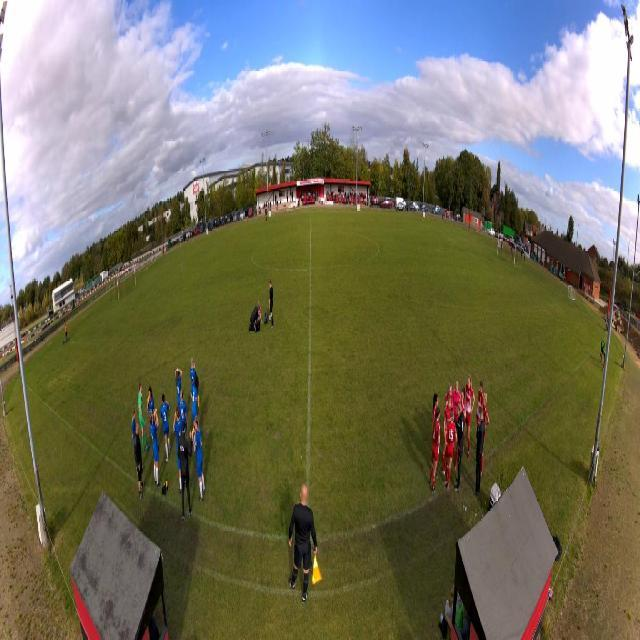ball: (269, 314, 272, 323)
player: (191, 414, 207, 500), (443, 407, 457, 491), (149, 409, 162, 487), (173, 404, 184, 490), (160, 394, 173, 465), (137, 379, 149, 451), (465, 375, 475, 459), (430, 405, 439, 495), (443, 394, 452, 474), (481, 385, 488, 479), (189, 356, 198, 403), (476, 380, 484, 431), (130, 407, 138, 457), (147, 387, 156, 429), (191, 376, 200, 418), (179, 388, 188, 429), (452, 382, 460, 427), (174, 366, 183, 406), (432, 393, 440, 434), (268, 279, 274, 329), (459, 389, 466, 420), (445, 381, 453, 407), (257, 298, 263, 326)
